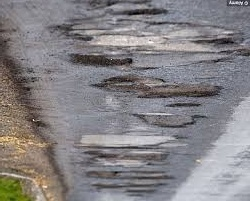pothole: (53, 18, 249, 59), (83, 67, 222, 98), (125, 107, 210, 130), (71, 132, 183, 149), (82, 165, 173, 182), (79, 145, 168, 162), (63, 53, 133, 68), (80, 181, 167, 188), (113, 7, 166, 16), (163, 101, 203, 108), (123, 188, 157, 195), (125, 193, 145, 199)
